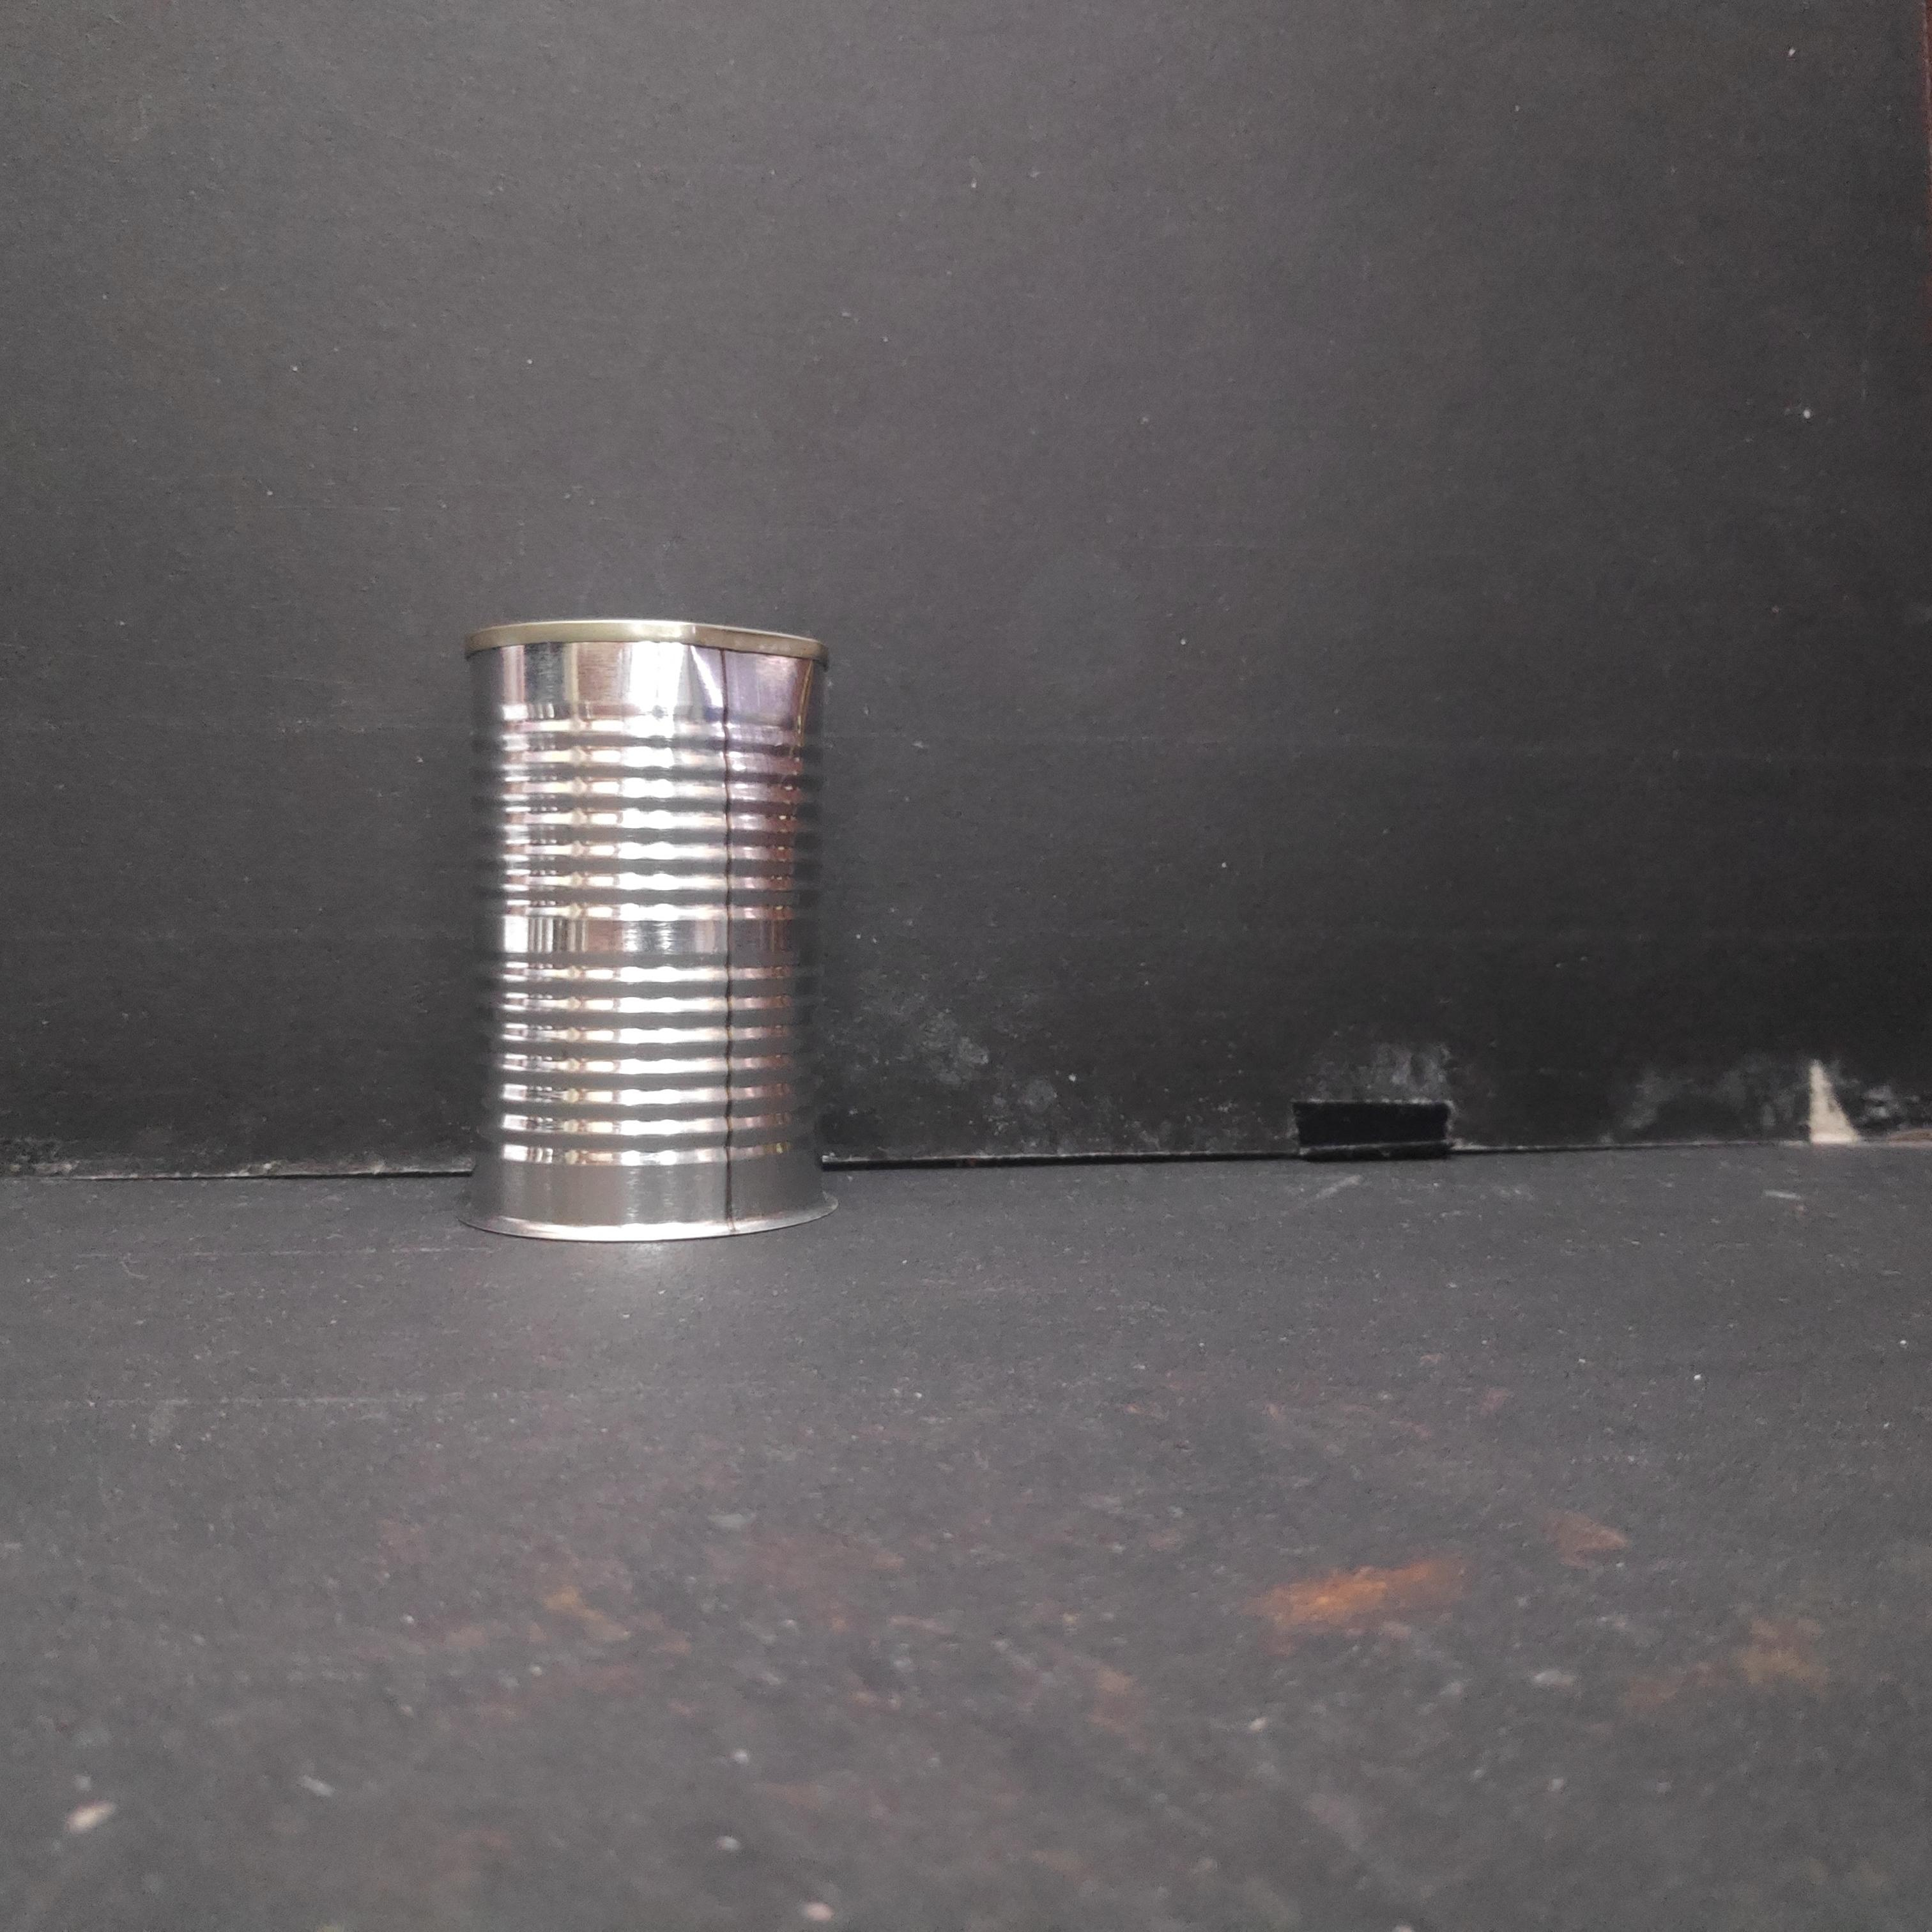Minor Defect: (452, 608, 837, 1255)
